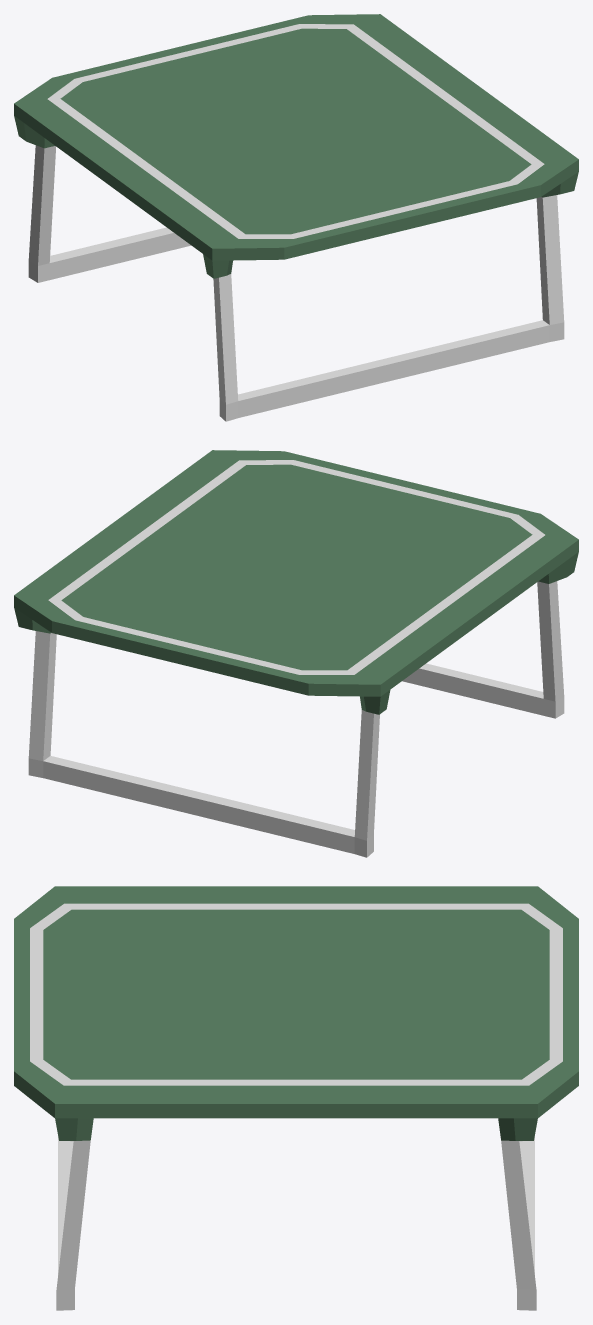
Rendered from Стол 2.fbx.
3 renders of one model, top to bottom at view 1: azimuth 30°, elevation 25°; view 2: azimuth 150°, elevation 25°; view 3: azimuth 270°, elevation 25°, orthographic. The views are drawn at different scales.
Visible parts, largest first — view 1: Cube; view 2: Cube; view 3: Cube.
Boxes of the visible parts, x1,y1,x2,y2 form: Cube: [14, 14, 578, 421]; Cube: [14, 450, 578, 857]; Cube: [14, 886, 578, 1310].
Size of the model in its own units: 640 by 295 by 702.
